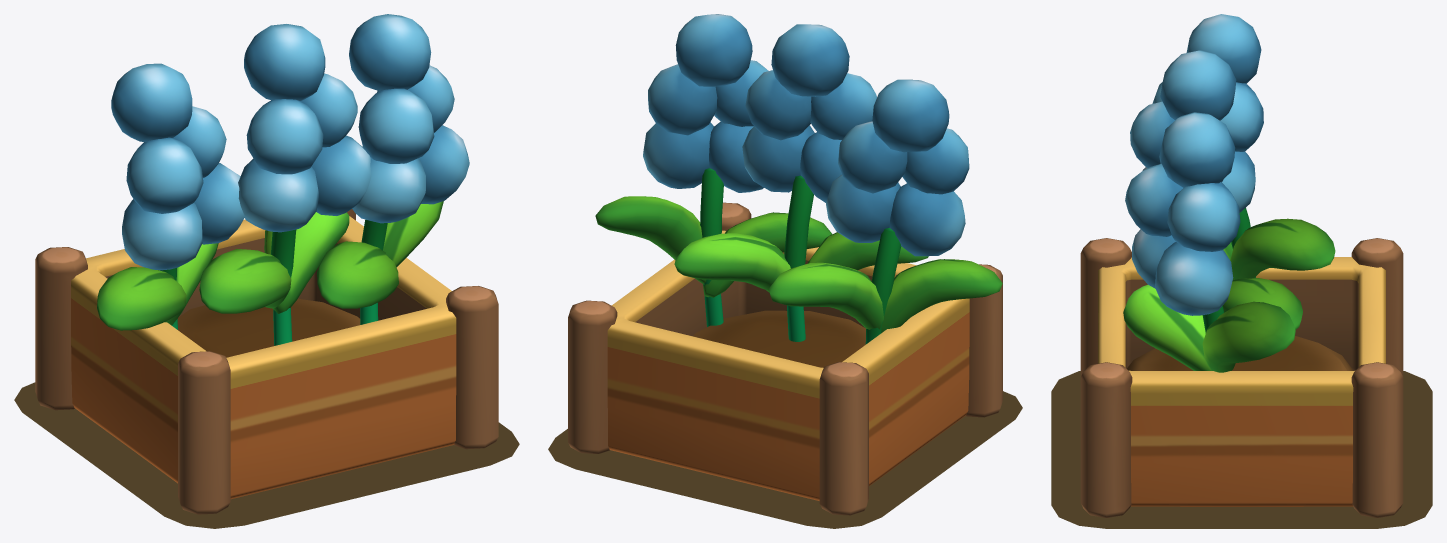
Rendered from Flower02B_L03.fbx.
The picture shows the model from 3 angles, left to right: view 1: azimuth 30°, elevation 25°; view 2: azimuth 150°, elevation 25°; view 3: azimuth 270°, elevation 25°; orthographic projection. The views are drawn at different scales.
Parts seen in each view (by area): view 1: Flower2BL3_Body, Flower2BL3_Box, Flower2BL3_SDW; view 2: Flower2BL3_Body, Flower2BL3_Box, Flower2BL3_SDW; view 3: Flower2BL3_Box, Flower2BL3_Body, Flower2BL3_SDW.
Boxes of the visible parts, x1,y1,x2,y2 form: Flower2BL3_Body: (97,14,469,357); Flower2BL3_Box: (35,209,498,514); Flower2BL3_SDW: (14,382,519,528); Flower2BL3_Body: (595,14,1002,367); Flower2BL3_Box: (568,202,1002,515); Flower2BL3_SDW: (548,391,1022,528); Flower2BL3_Box: (1080,238,1403,517); Flower2BL3_Body: (1123,14,1353,372); Flower2BL3_SDW: (1051,371,1432,528).
Bounding box in the file's own units: 129 × 134 × 118.
